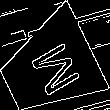M_SW: (19, 35, 79, 100)
